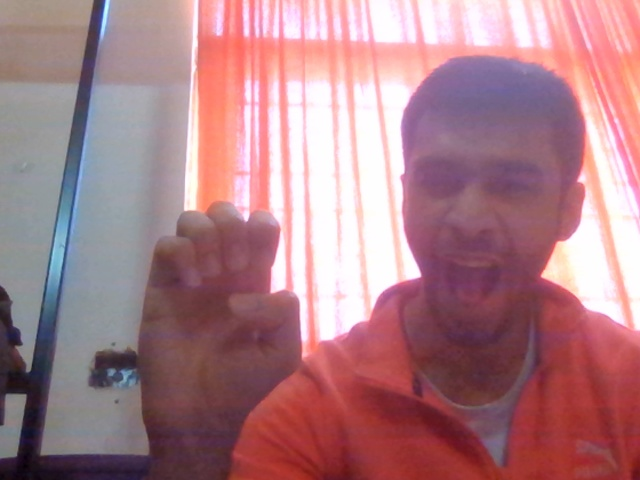E: (107, 180, 321, 462)
